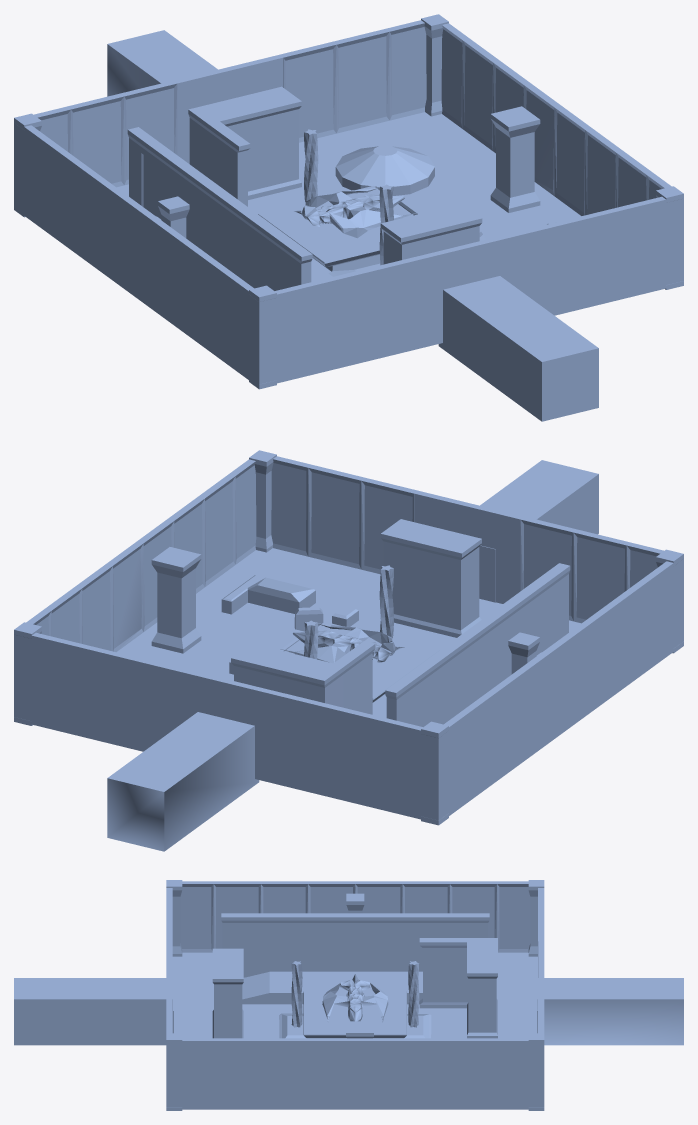
File: StageSet2Ray.fbx
The picture shows the model from 3 angles, top to bottom: view 1: azimuth 30°, elevation 25°; view 2: azimuth 150°, elevation 25°; view 3: azimuth 270°, elevation 25°; orthographic projection. The views are drawn at different scales.
Visible parts, largest first — view 1: Stage2Ray; view 2: Stage2Ray; view 3: Stage2Ray.
Boxes of the visible parts, left/top/right/bottom form: Stage2Ray: left=14, top=14, right=683, bottom=421; Stage2Ray: left=14, top=450, right=683, bottom=851; Stage2Ray: left=14, top=880, right=683, bottom=1110.
Size of the model in its own units: 29.99 by 6.54 by 53.16.
